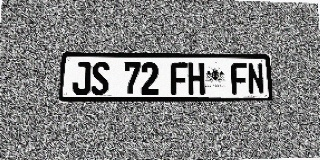2: (141, 62, 158, 95)
7: (123, 62, 141, 95)
F: (170, 62, 188, 95), (231, 63, 248, 94)
H: (188, 63, 205, 94)
J: (72, 62, 91, 95)
N: (247, 63, 264, 94)
S: (91, 62, 109, 95)
